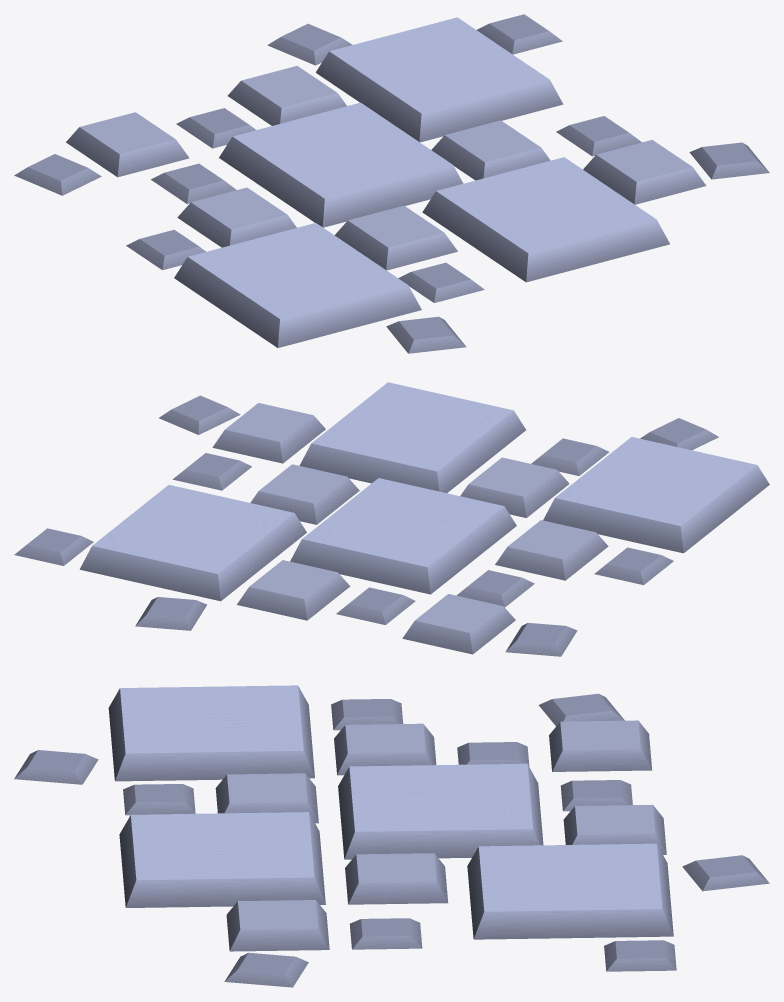
The model's file is road.006_lev2.glb.
The picture shows the model from 3 angles, top to bottom: view 1: azimuth 30°, elevation 25°; view 2: azimuth 150°, elevation 25°; view 3: azimuth 270°, elevation 25°; orthographic projection. The views are drawn at different scales.
Visible parts, largest first — view 1: road.006_lev2; view 2: road.006_lev2; view 3: road.006_lev2.
Boxes of the visible parts, x1,y1,x2,y2 form: road.006_lev2: (14, 14, 769, 353); road.006_lev2: (14, 382, 769, 656); road.006_lev2: (14, 685, 769, 987).
Bounding box in the file's own units: 3.14 × 0.1192 × 3.45.
Materials: 1 (1 with a texture image).
